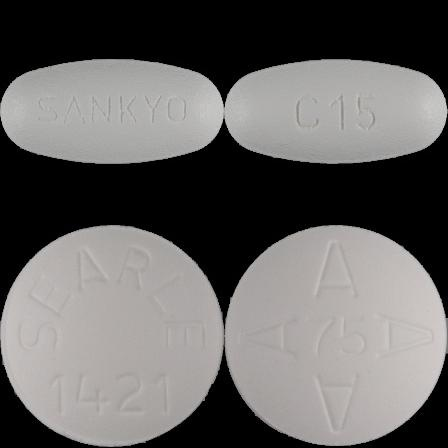63629-3357: (0, 0, 224, 224)
